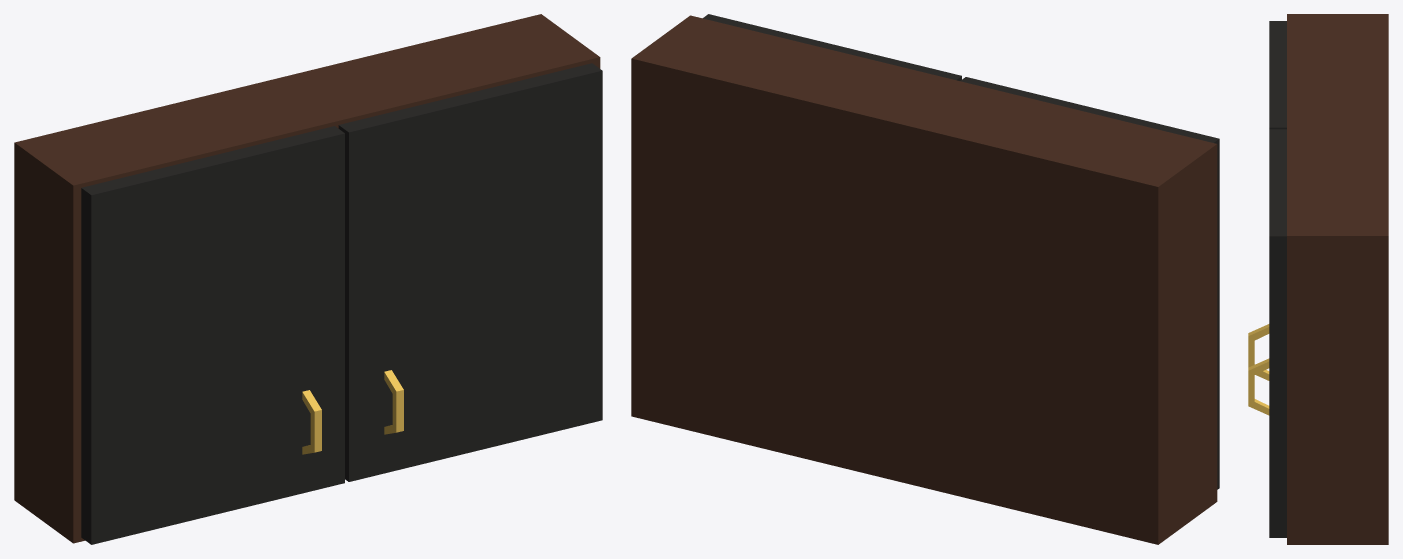
The model's file is Cupboard_4_1.fbx.
The picture shows the model from 3 angles, left to right: view 1: azimuth 30°, elevation 25°; view 2: azimuth 150°, elevation 25°; view 3: azimuth 270°, elevation 25°; orthographic projection. The views are drawn at different scales.
Visible parts, largest first — view 1: polySurface1570; view 2: polySurface1570; view 3: polySurface1570.
Boxes of the visible parts, box(x1,y1,x2,y2) form: polySurface1570: box(14, 14, 602, 544); polySurface1570: box(631, 14, 1219, 544); polySurface1570: box(1248, 14, 1388, 544).
Size of the model in its own units: 1.8 by 1.17 by 0.4813.
1 material, 1 textured.
